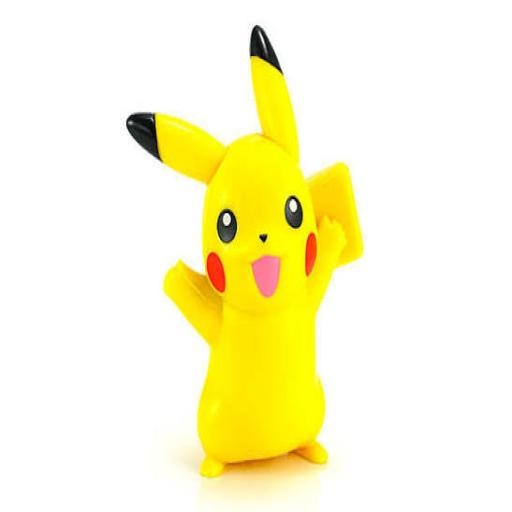Pikachu: (125, 25, 363, 478)
